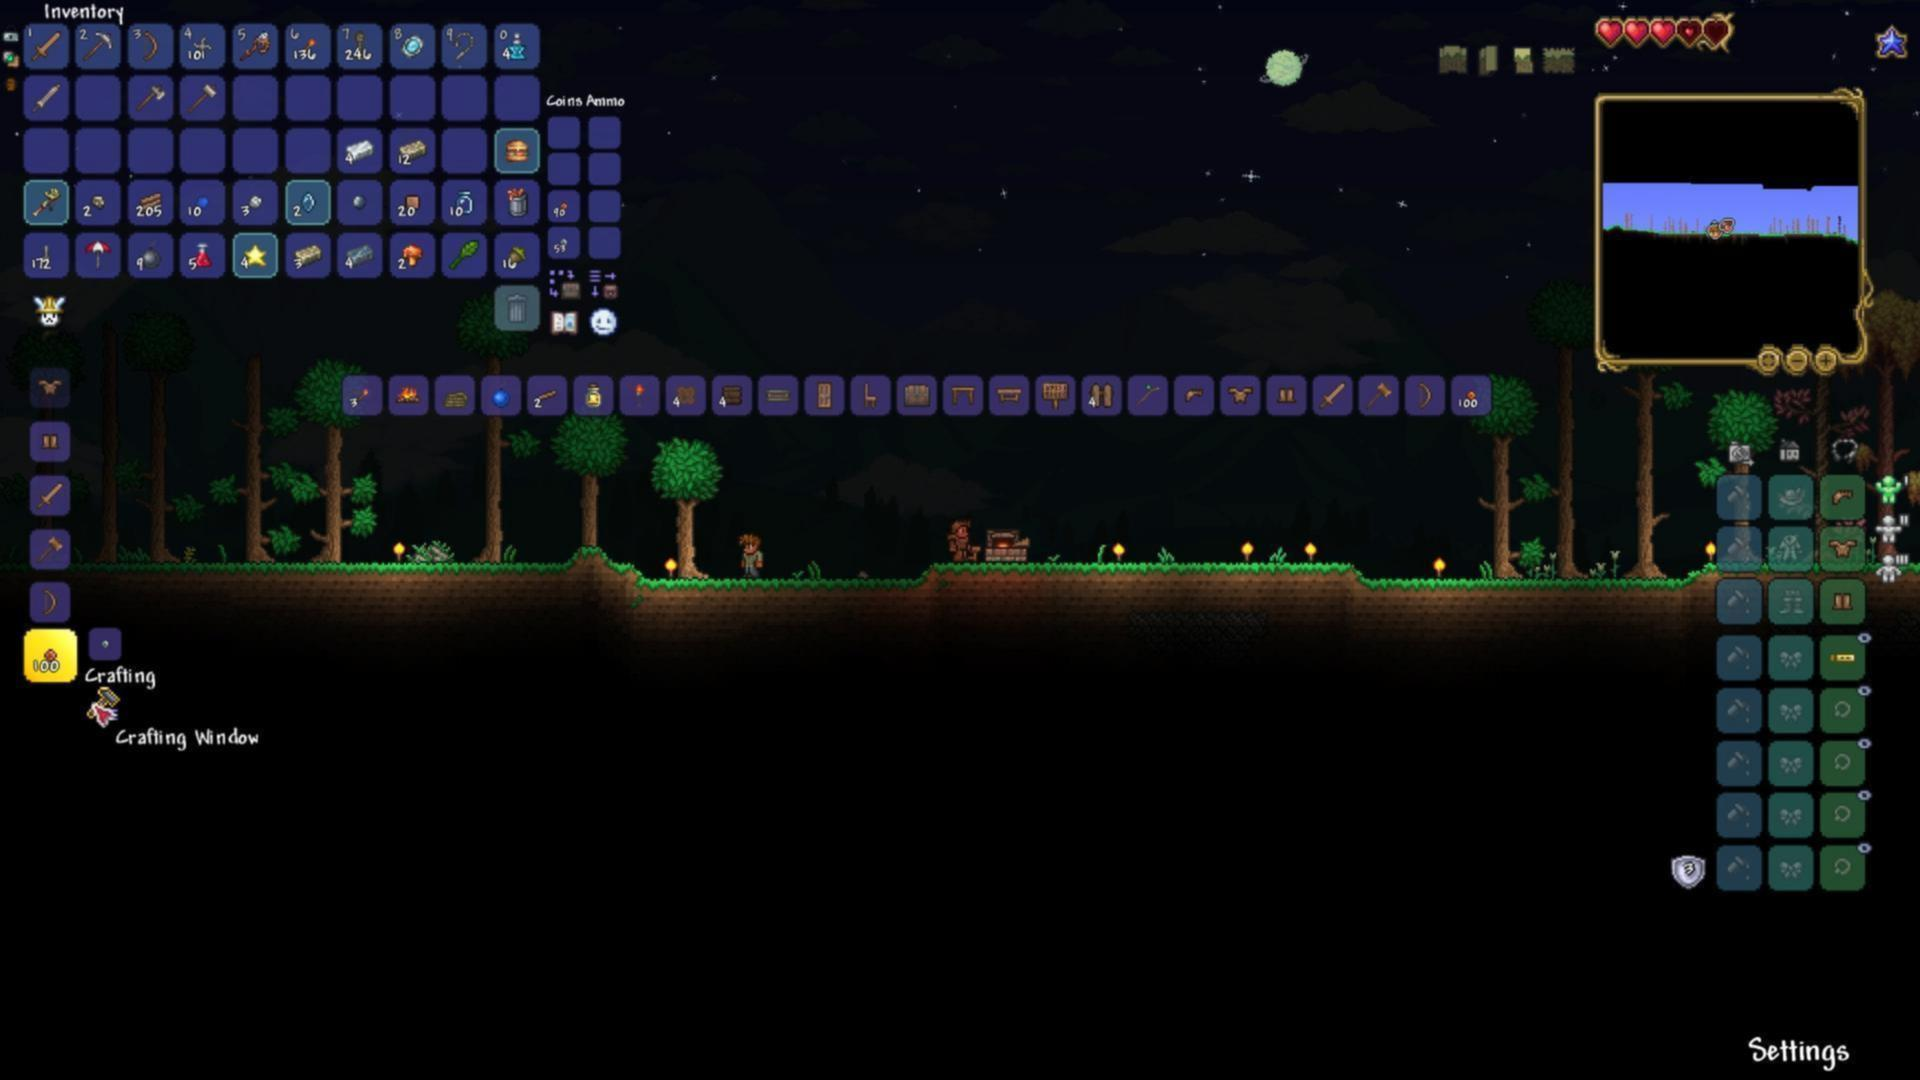axe: (135, 80, 166, 112)
bomb: (141, 247, 164, 272)
bow: (141, 29, 164, 66), (40, 585, 58, 618), (1416, 380, 1433, 411)
breastplate: (1828, 537, 1858, 560)
furnace: (982, 521, 1035, 564)
gel: (193, 194, 212, 210)
heart: (1648, 17, 1677, 50), (1623, 16, 1651, 50), (1594, 17, 1625, 47)
helmet: (1832, 489, 1854, 505)
knife: (41, 243, 50, 266)
legs: (1830, 591, 1855, 612)
lens: (298, 190, 318, 214)
pickaxe: (80, 32, 113, 63)
recallP: (508, 30, 530, 61)
rope: (353, 28, 367, 62)
shuriken: (193, 34, 212, 55)
sword: (1317, 377, 1352, 411), (28, 32, 65, 63), (30, 80, 65, 113), (36, 483, 65, 516)
wood: (140, 190, 164, 212)
workbench: (997, 382, 1025, 402)
